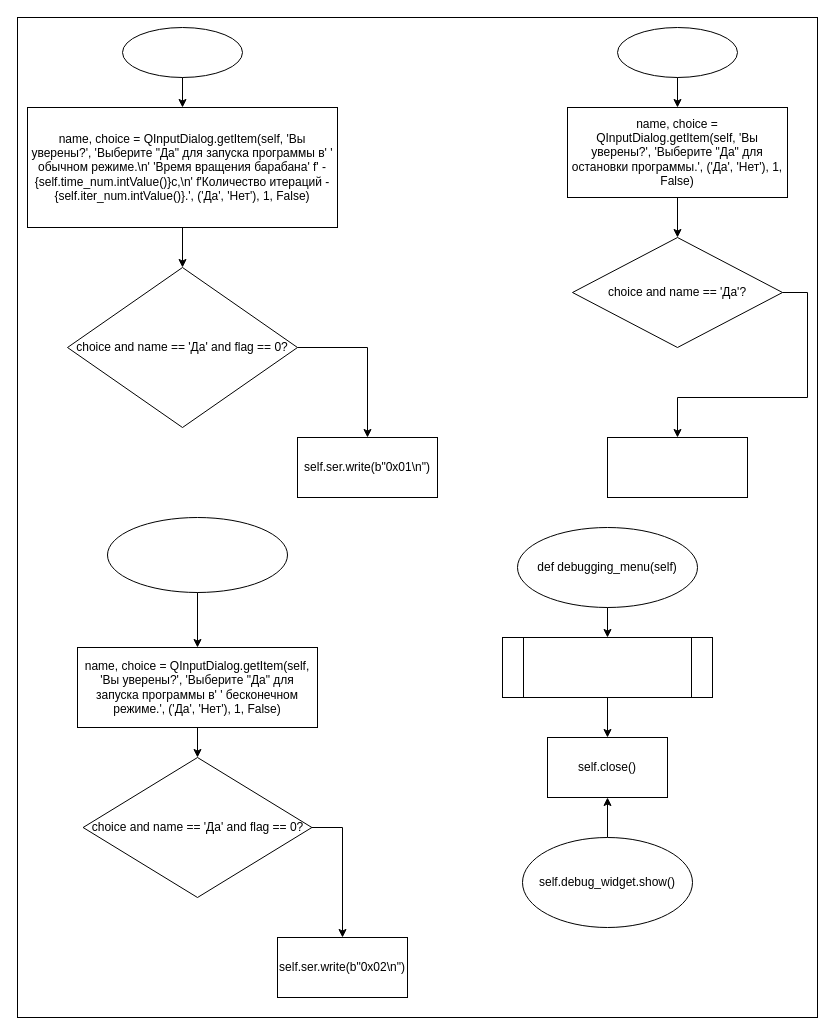
This 835x1035 diagram has some shape labels left out. Each missing label, with the box of its shape:
def infinity(self):: (106, 516, 288, 592)
def start(self): (122, 26, 242, 78)
def stop(self): (616, 26, 738, 78)
self.debug_widget = DebuggingMenu(): (502, 636, 712, 698)
self.ser.write(b"0x00\n"): (606, 436, 748, 498)
